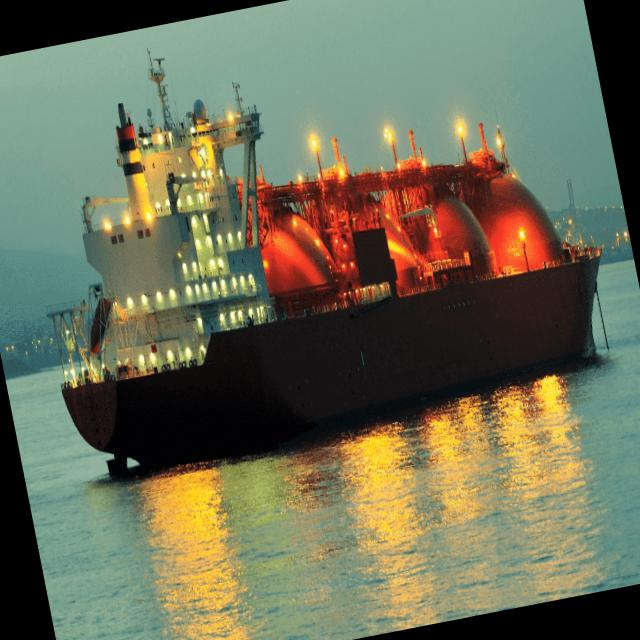boat: (1, 0, 637, 516)
